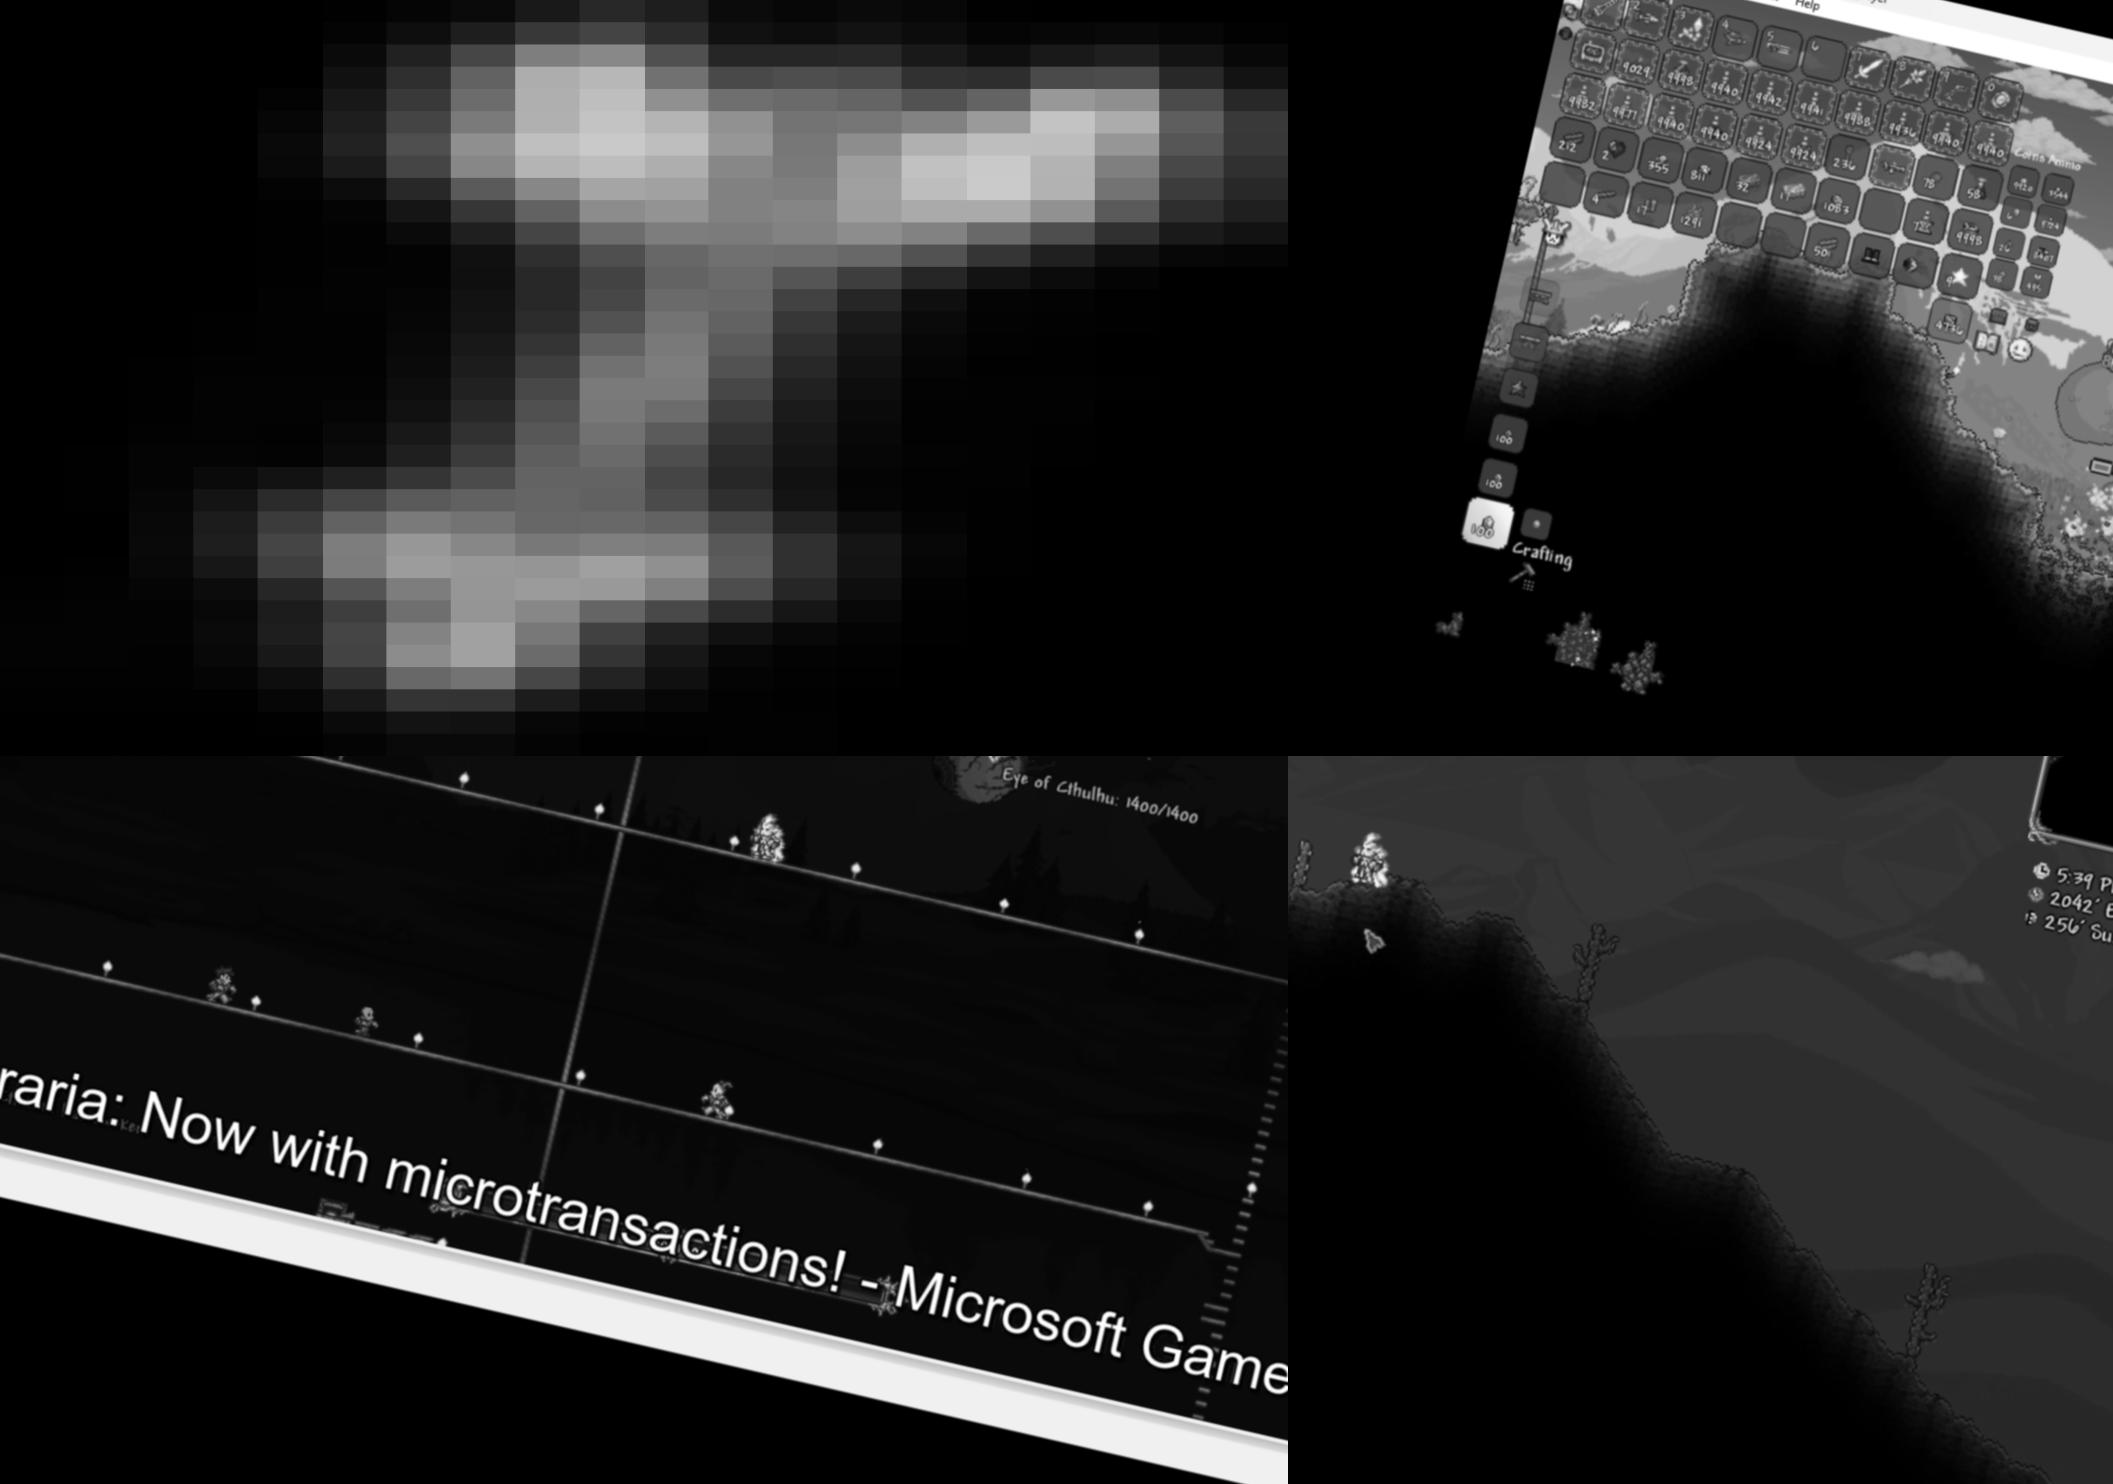arrow: (0, 0, 1288, 756)
eyeC: (914, 756, 1081, 821)
